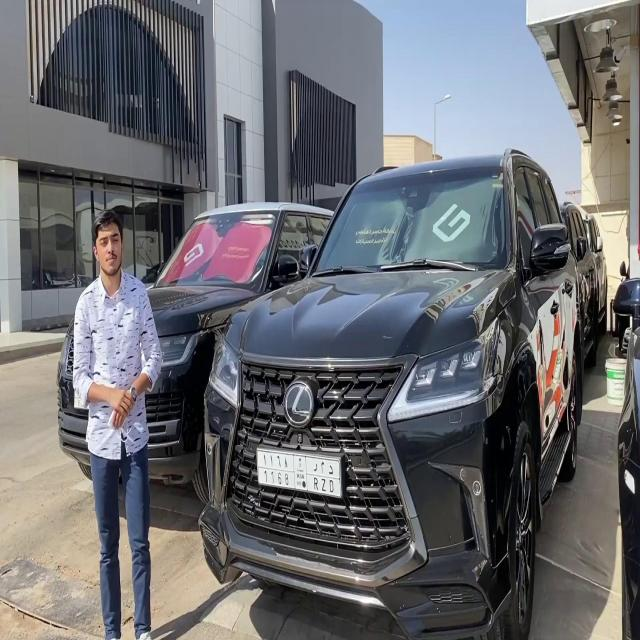license_plate: (254, 438, 344, 499)
